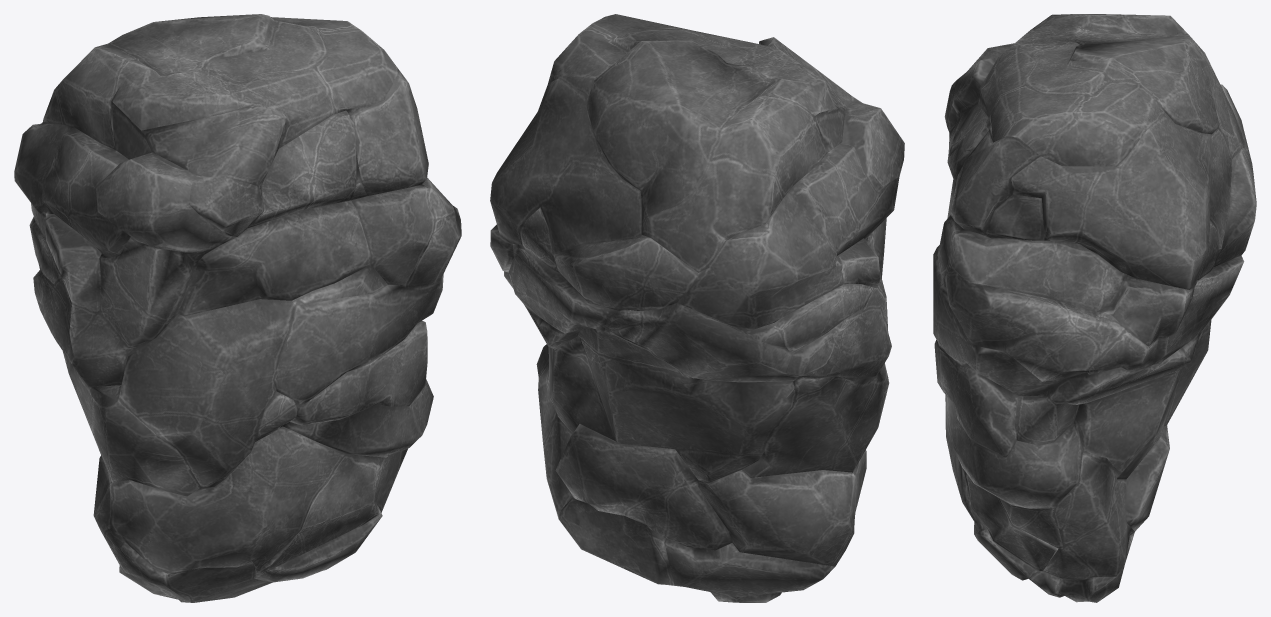
File: crag.glb
3 views of the same model, side by side, from view 1: azimuth 30°, elevation 25°; view 2: azimuth 150°, elevation 25°; view 3: azimuth 270°, elevation 25° (orthographic). The views are drawn at different scales.
Parts seen in each view (by area): view 1: m; view 2: m; view 3: m.
Part boxes in pixels (left/top/right/bottom): m: left=14, top=14, right=461, bottom=602; m: left=490, top=14, right=904, bottom=602; m: left=933, top=14, right=1256, bottom=602.
Size of the model in its own units: 5.26 by 7.7 by 4.2.
Materials: 1 (1 with a texture image).
